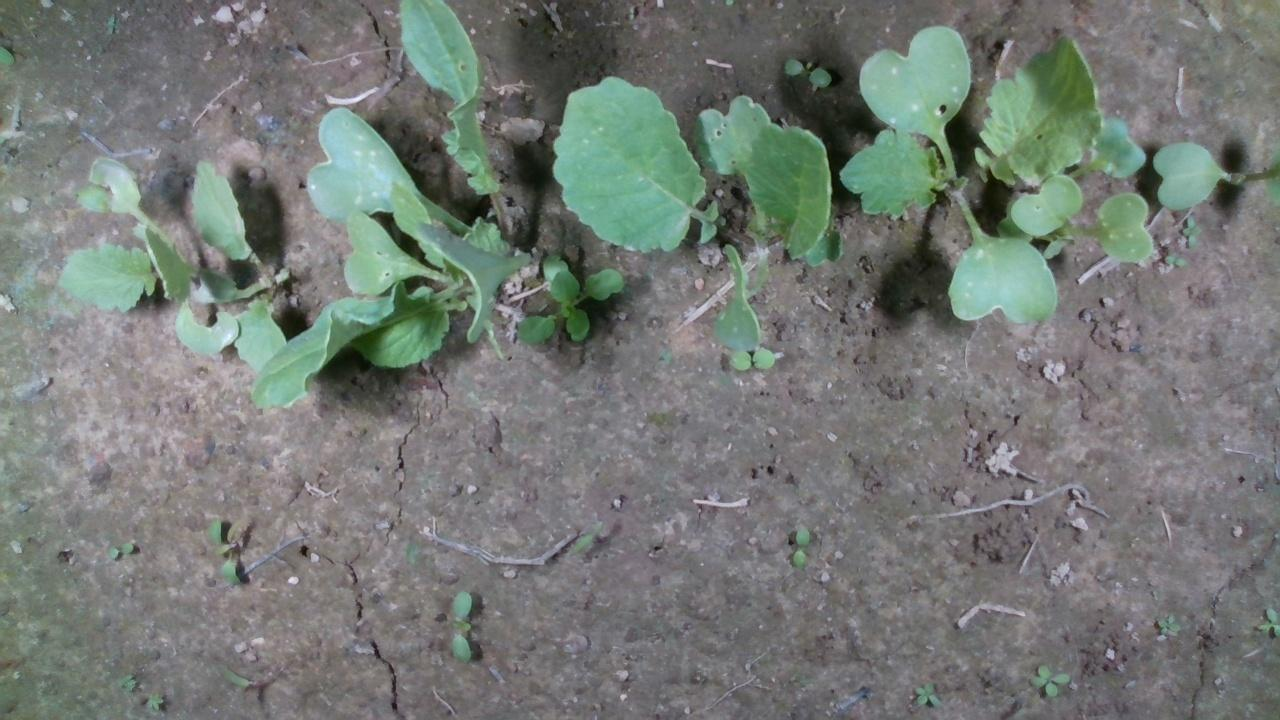weed: (205, 517, 242, 588), (449, 587, 473, 664), (781, 55, 832, 87), (1026, 663, 1070, 697), (790, 525, 811, 568), (912, 680, 942, 708), (1180, 213, 1202, 251), (1154, 611, 1179, 636), (105, 539, 135, 559), (1163, 254, 1186, 266)
